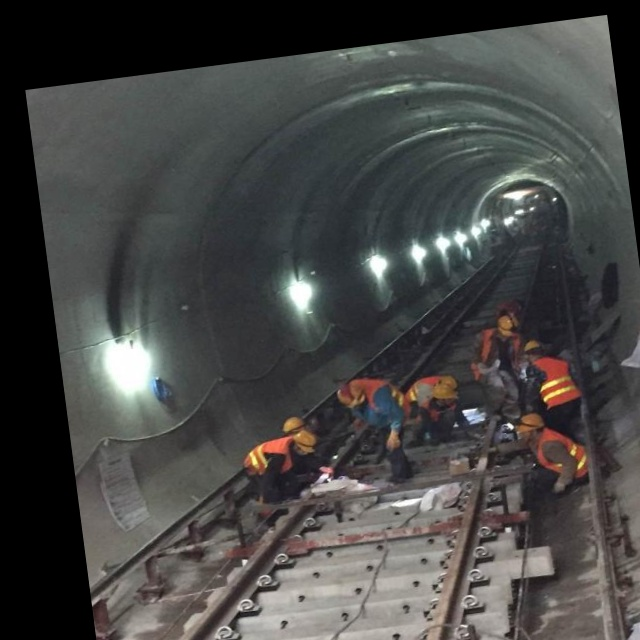Con_Chaleco: (239, 436, 297, 483), (530, 353, 577, 408)
